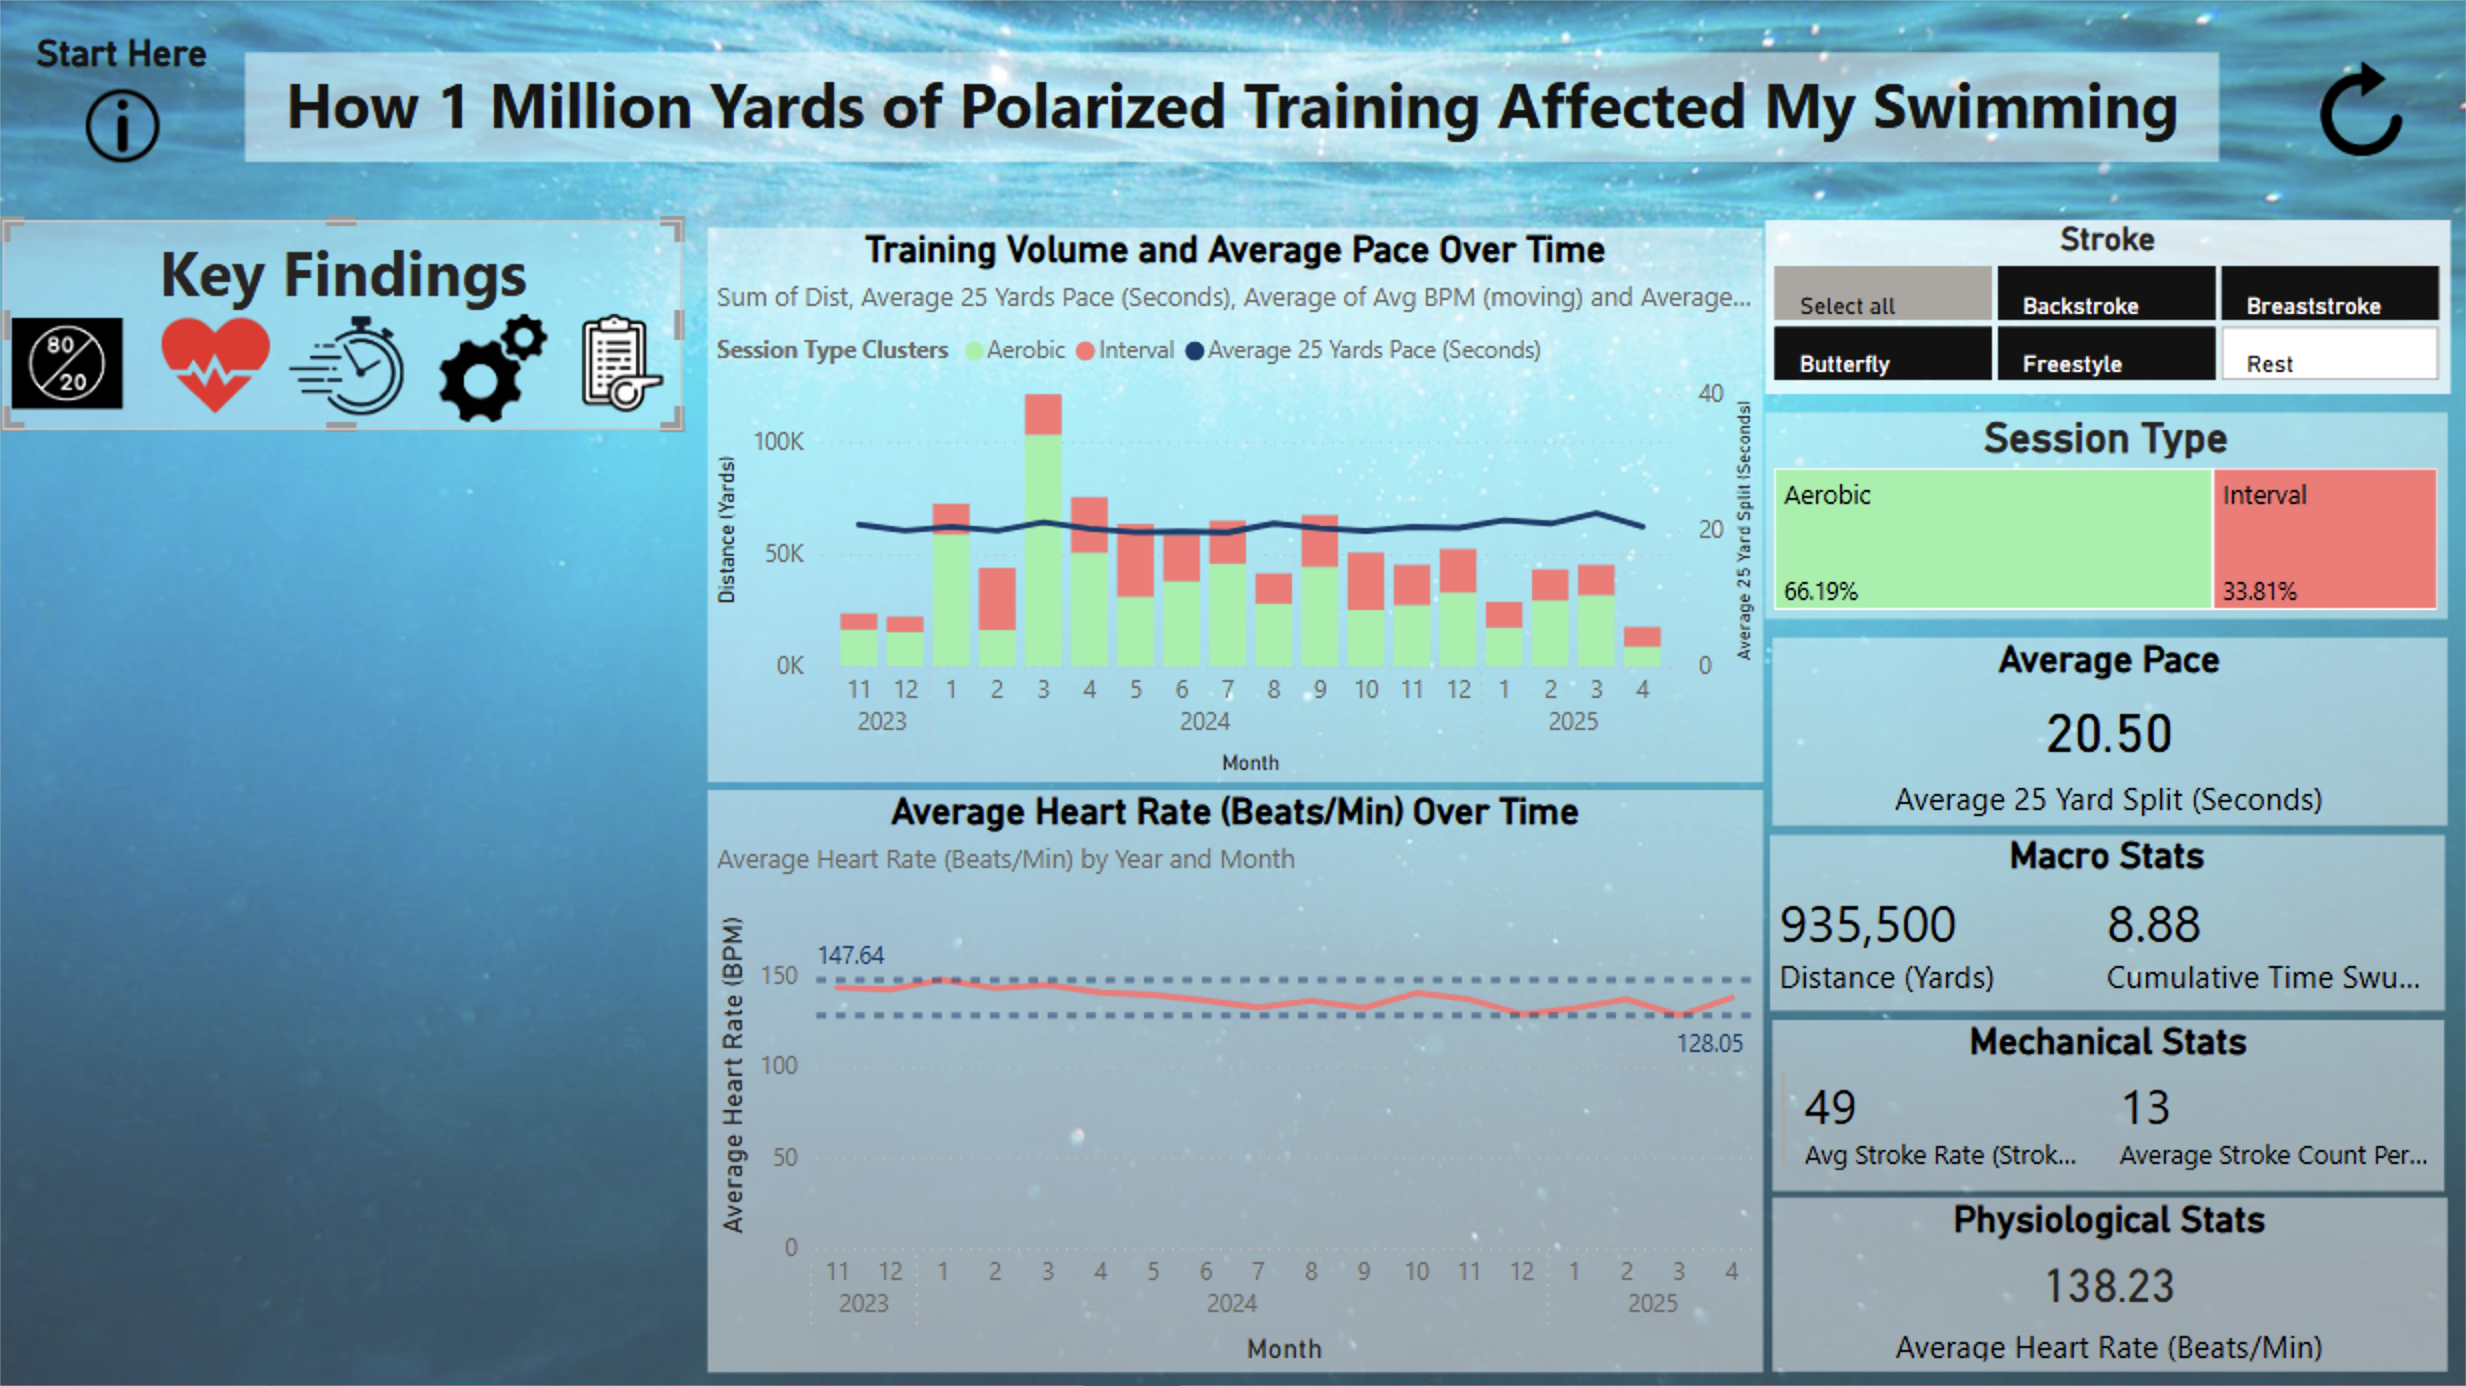

This screenshot's page, from the dashboard's own definition file:
{"tool":"powerbi","page":{"name":"Loading Dash","canvas":[1280,720],"ordinal":0},"visuals":[{"type":"group","id":"g1","title":"Cards","box":[916,113.8,356,597.4],"z":0},{"type":"image","title":"Final Take Aways","box":[289.1,157.7,64.8,62.9],"z":0,"group":"g3"},{"type":"tableEx","title":"1 Year HR Improvement","fields":{"Values":["Form.Move Time (Seconds) (bins)","Form.1 Year HR Improvement %"]},"box":[915.2,323.2,356.7,385.3],"z":500,"group":"g2"},{"type":"image","title":"Reset Button","box":[1171.6,27.2,107.8,58.3],"z":1000,"group":"g4"},{"type":"group","id":"g2","title":"Graphs","box":[362.1,112.6,909.7,600.6],"z":1000},{"type":"image","title":"Mechanical Button","box":[222.7,157.3,66.1,65.4],"z":1000,"group":"g3"},{"type":"image","title":"Start Here","box":[0,17.2,126.8,75.8],"z":2000,"group":"g4"},{"type":"group","id":"g3","title":"Narrative Icons","box":[0.9,113.6,353.6,109.1],"z":2000},{"type":"image","title":"Speed Button","box":[144.8,156.6,68.7,65.4],"z":2000,"group":"g3"},{"type":"textbox","title":"Title","box":[126.7,26.7,1025,56.7],"z":3000},{"type":"image","title":"Physiological Button","box":[78.7,156.6,66.1,65.4],"z":3000,"group":"g3"},{"type":"textbox","title":"HR Blurb","box":[1.5,223,354.1,495.5],"z":3000,"group":"g5"},{"type":"group","id":"g4","title":"Admin Buttons","box":[0,17.2,1279.4,549.1],"z":4000},{"type":"image","title":"80/20 Button","box":[0.9,156.6,67.4,62.9],"z":4000,"group":"g3"},{"type":"lineChart","title":"Average Heart Rate (Beats/Min) Over Time","fields":{"Y":["Avg(Form.Avg BPM (moving))"],"Category":["Date.Year Hierarchy.Year","Date.Year Hierarchy.Month","Date.Year Hierarchy.Day"]},"box":[363.4,405,547.9,302.3],"z":4000,"group":"g2"},{"type":"group","id":"g5","title":"Blurbs","box":[0,53.6,1247.9,664.9],"z":5000},{"type":"textbox","title":"Key Findings Title","box":[0.9,113.6,353.6,56.5],"z":5000,"group":"g3"},{"type":"lineStackedColumnComboChart","title":"Training Volume and Average Pace Over Time","fields":{"Category":["Date.Year Hierarchy.Year","Date.Year Hierarchy.Month","Date.Year Hierarchy.Day"],"Y":["Sum(Form.Dist)"],"Y2":["Avg(Form.Move Time (Seconds))"],"Series":["Form.Session Type Clusters"]},"box":[362.9,112.6,548.2,288.2],"z":6000,"group":"g2"},{"type":"treemap","title":"Session Type","fields":{"Group":["Form.Session Type Clusters Hierarchy.Session Type Clusters","Form.Session Type Clusters Hierarchy.IntervalIndex (groups)"],"Values":["Sum(Form.Dist)"]},"box":[916,214,354.2,107.5],"z":6000,"group":"g1"},{"type":"advancedSlicerVisual","fields":{"Values":["Strokes.Stroke"]},"box":[916,113.8,356,90],"z":7000,"group":"g1"}]}

Visuals, with their boxes in screenshot pixels (x1, y1, x2, y2), scaled from the page's 1280x720 canvas onto the 2466x1386 screenshot:
"Cards" group: box(1765, 219, 2451, 1369)
"Final Take Aways" image: box(557, 304, 682, 425)
"1 Year HR Improvement" tableEx: box(1763, 622, 2450, 1364)
"Reset Button" image: box(2257, 52, 2465, 165)
"Graphs" group: box(698, 217, 2450, 1373)
"Mechanical Button" image: box(429, 303, 556, 429)
"Start Here" image: box(0, 33, 244, 179)
"Narrative Icons" group: box(2, 219, 683, 429)
"Speed Button" image: box(279, 301, 411, 427)
"Title" textbox: box(244, 51, 2219, 161)
"Physiological Button" image: box(152, 301, 279, 427)
"HR Blurb" textbox: box(3, 429, 685, 1383)
"Admin Buttons" group: box(0, 33, 2465, 1090)
"80/20 Button" image: box(2, 301, 132, 423)
"Average Heart Rate (Beats/Min) Over Time" lineChart: box(700, 780, 1756, 1362)
"Blurbs" group: box(0, 103, 2404, 1383)
"Key Findings Title" textbox: box(2, 219, 683, 327)
"Training Volume and Average Pace Over Time" lineStackedColumnComboChart: box(699, 217, 1755, 772)
"Session Type" treemap: box(1765, 412, 2447, 619)
advancedSlicerVisual - Strokes.Stroke: box(1765, 219, 2451, 392)
